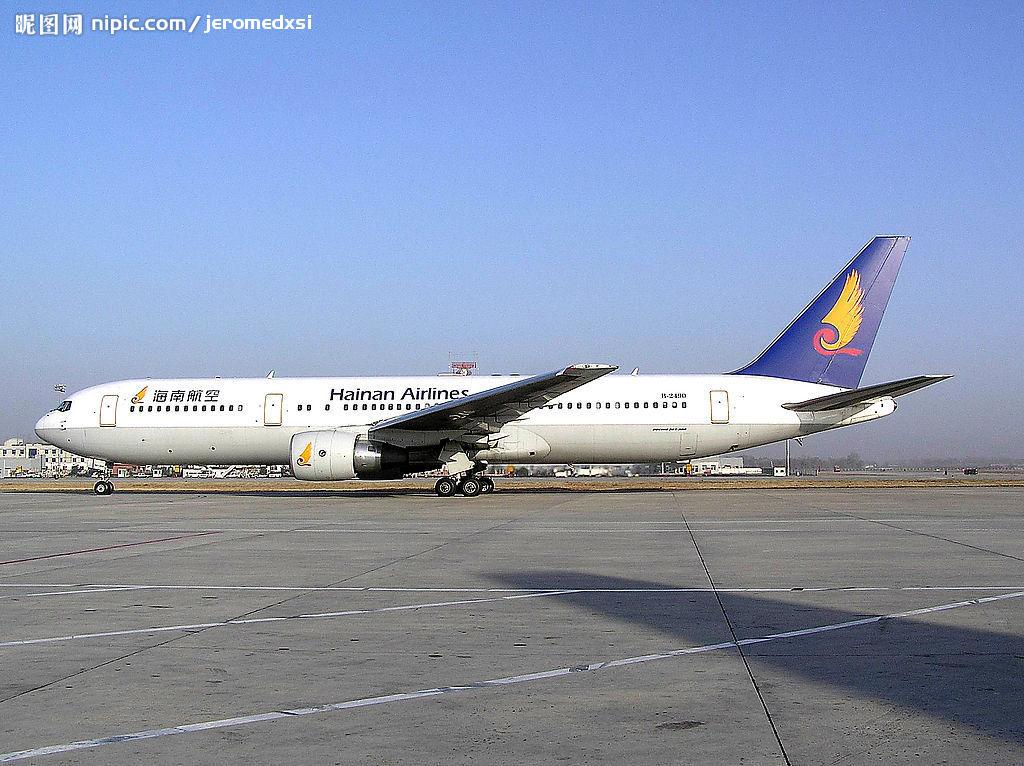airplane: (28, 230, 958, 489)
